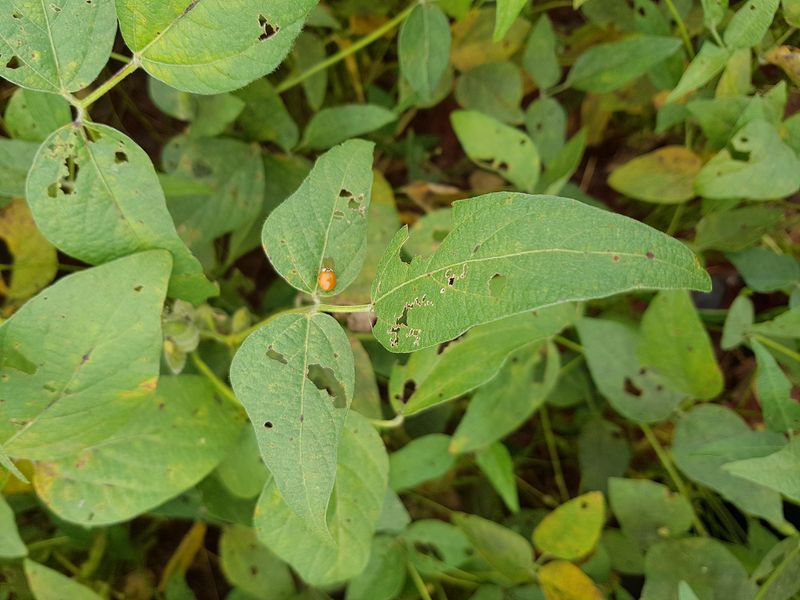Coccinellidae: (308, 263, 347, 296)
